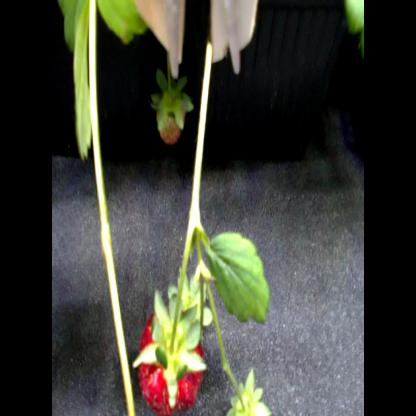ripe: (132, 304, 209, 416)
unripe: (154, 92, 186, 146)
